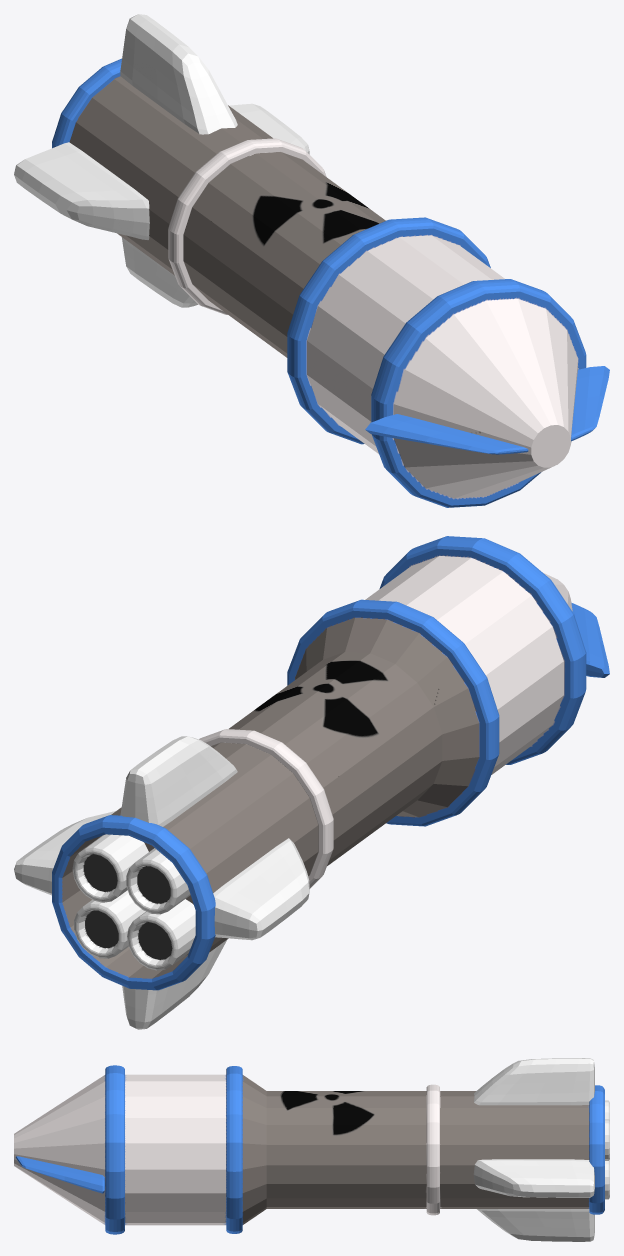
File: Rocket4.fbx
3 renders of one model, top to bottom at view 1: azimuth 30°, elevation 25°; view 2: azimuth 150°, elevation 25°; view 3: azimuth 270°, elevation 25°, orthographic. The views are drawn at different scales.
Parts seen in each view (by area): view 1: Cylinder.008, Cube.010, Plane.002; view 2: Cylinder.008, Cube.010, Cylinder.010, Plane.002; view 3: Cylinder.008, Cube.010, Plane.002, Cylinder.010.
Part boxes in pixels (x1,y1,x2,y2): Cylinder.008: [52, 58, 586, 507]; Cube.010: [14, 14, 309, 307]; Plane.002: [365, 366, 609, 454]; Cylinder.008: [52, 536, 586, 990]; Cube.010: [14, 736, 309, 1029]; Cylinder.010: [72, 834, 195, 970]; Plane.002: [571, 602, 609, 677]; Cylinder.008: [14, 1065, 604, 1234]; Cube.010: [473, 1058, 594, 1241]; Plane.002: [15, 1156, 104, 1193]; Cylinder.010: [605, 1100, 609, 1199].
Bounding box in the file's own units: 0.6856 × 0.6856 × 2.03.
